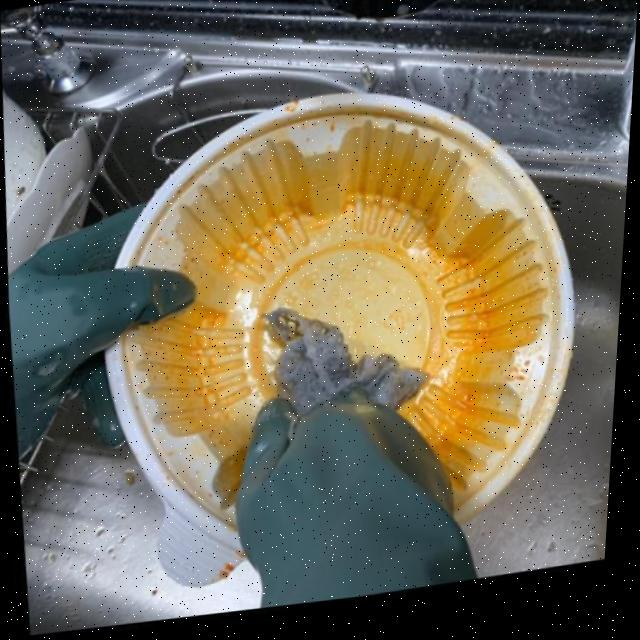disposable: (51, 69, 618, 594)
